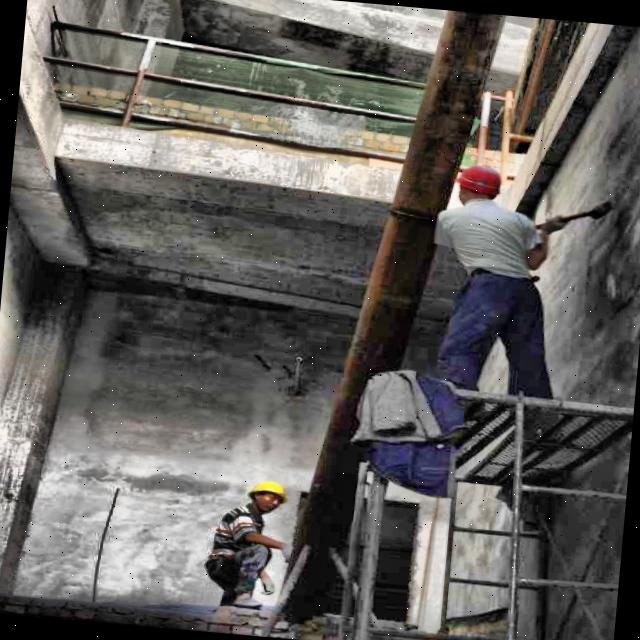helmet: (450, 150, 520, 220), (241, 478, 295, 522)
